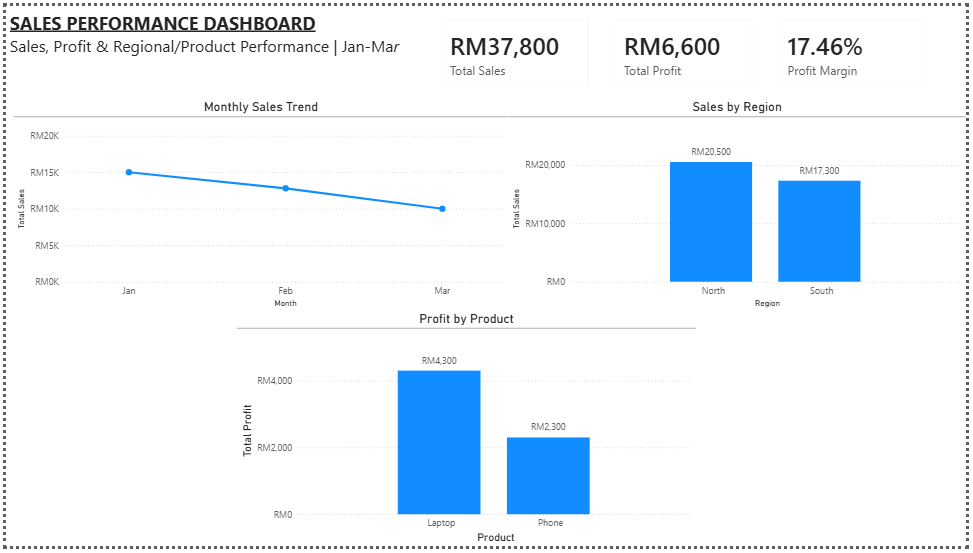

The page's visual inventory and layout, read from the dashboard file:
{"tool":"powerbi","page":{"name":"Page 1","canvas":[1280,720],"ordinal":0},"visuals":[{"type":"cardVisual","fields":{"Data":["Sheet1.Total Sales"]},"box":[562,0,232,124],"z":0},{"type":"cardVisual","fields":{"Data":["Sheet1.Total Profit"]},"box":[794,0,218,124],"z":1},{"type":"cardVisual","fields":{"Data":["Sheet1.Profit Margin"]},"box":[1012,0,228,124],"z":2},{"type":"lineChart","title":"Monthly Sales Trend","fields":{"Category":["Sheet1.Month"],"Y":["Sheet1.Total Sales"]},"box":[10,124,660,282],"z":3},{"type":"clusteredColumnChart","title":"Sales by Region","fields":{"Category":["Sheet1.Region"],"Y":["Sheet1.Total Sales"]},"box":[670,124,610,282],"z":4},{"type":"clusteredColumnChart","title":"Profit by Product","fields":{"Category":["Sheet1.Product"],"Y":["Sheet1.Total Profit"]},"box":[308,406,612,314],"z":5},{"type":"textbox","box":[0,0,546,106],"z":7}]}

Visuals, with their boxes in screenshot pixels (x1, y1, x2, y2), scaled from the page's 1280x720 canvas onto the 973x553 screenshot:
cardVisual - Sheet1.Total Sales: bbox=[427, 0, 604, 95]
cardVisual - Sheet1.Total Profit: bbox=[604, 0, 769, 95]
cardVisual - Sheet1.Profit Margin: bbox=[769, 0, 943, 95]
"Monthly Sales Trend" lineChart: bbox=[8, 95, 509, 312]
"Sales by Region" clusteredColumnChart: bbox=[509, 95, 972, 312]
"Profit by Product" clusteredColumnChart: bbox=[234, 312, 699, 552]
textbox: bbox=[0, 0, 415, 81]
